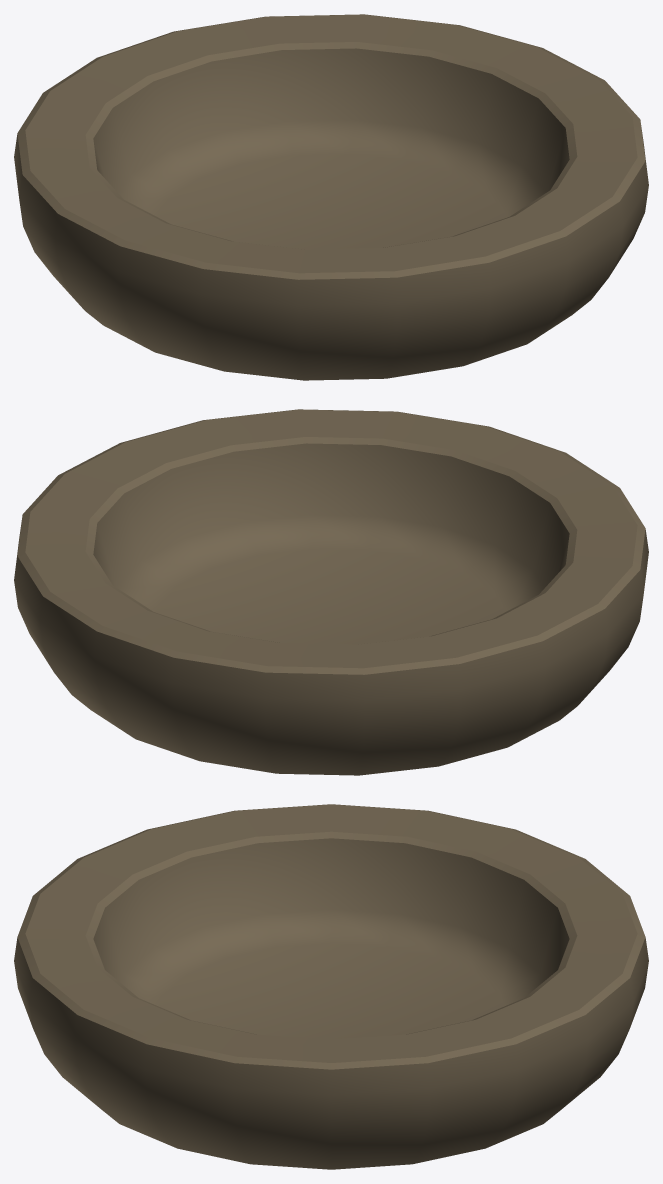
File: SM_Bowl02.fbx
3 views of the same model, one above another, from view 1: azimuth 30°, elevation 25°; view 2: azimuth 150°, elevation 25°; view 3: azimuth 270°, elevation 25° (orthographic).
Parts seen in each view (by area): view 1: pSphere16; view 2: pSphere16; view 3: pSphere16.
Boxes of the visible parts, x1,y1,x2,y2 form: pSphere16: (14,14,648,380); pSphere16: (14,409,648,775); pSphere16: (14,804,648,1169).
Size of the model in its own units: 45.17 by 10.2 by 45.17.
